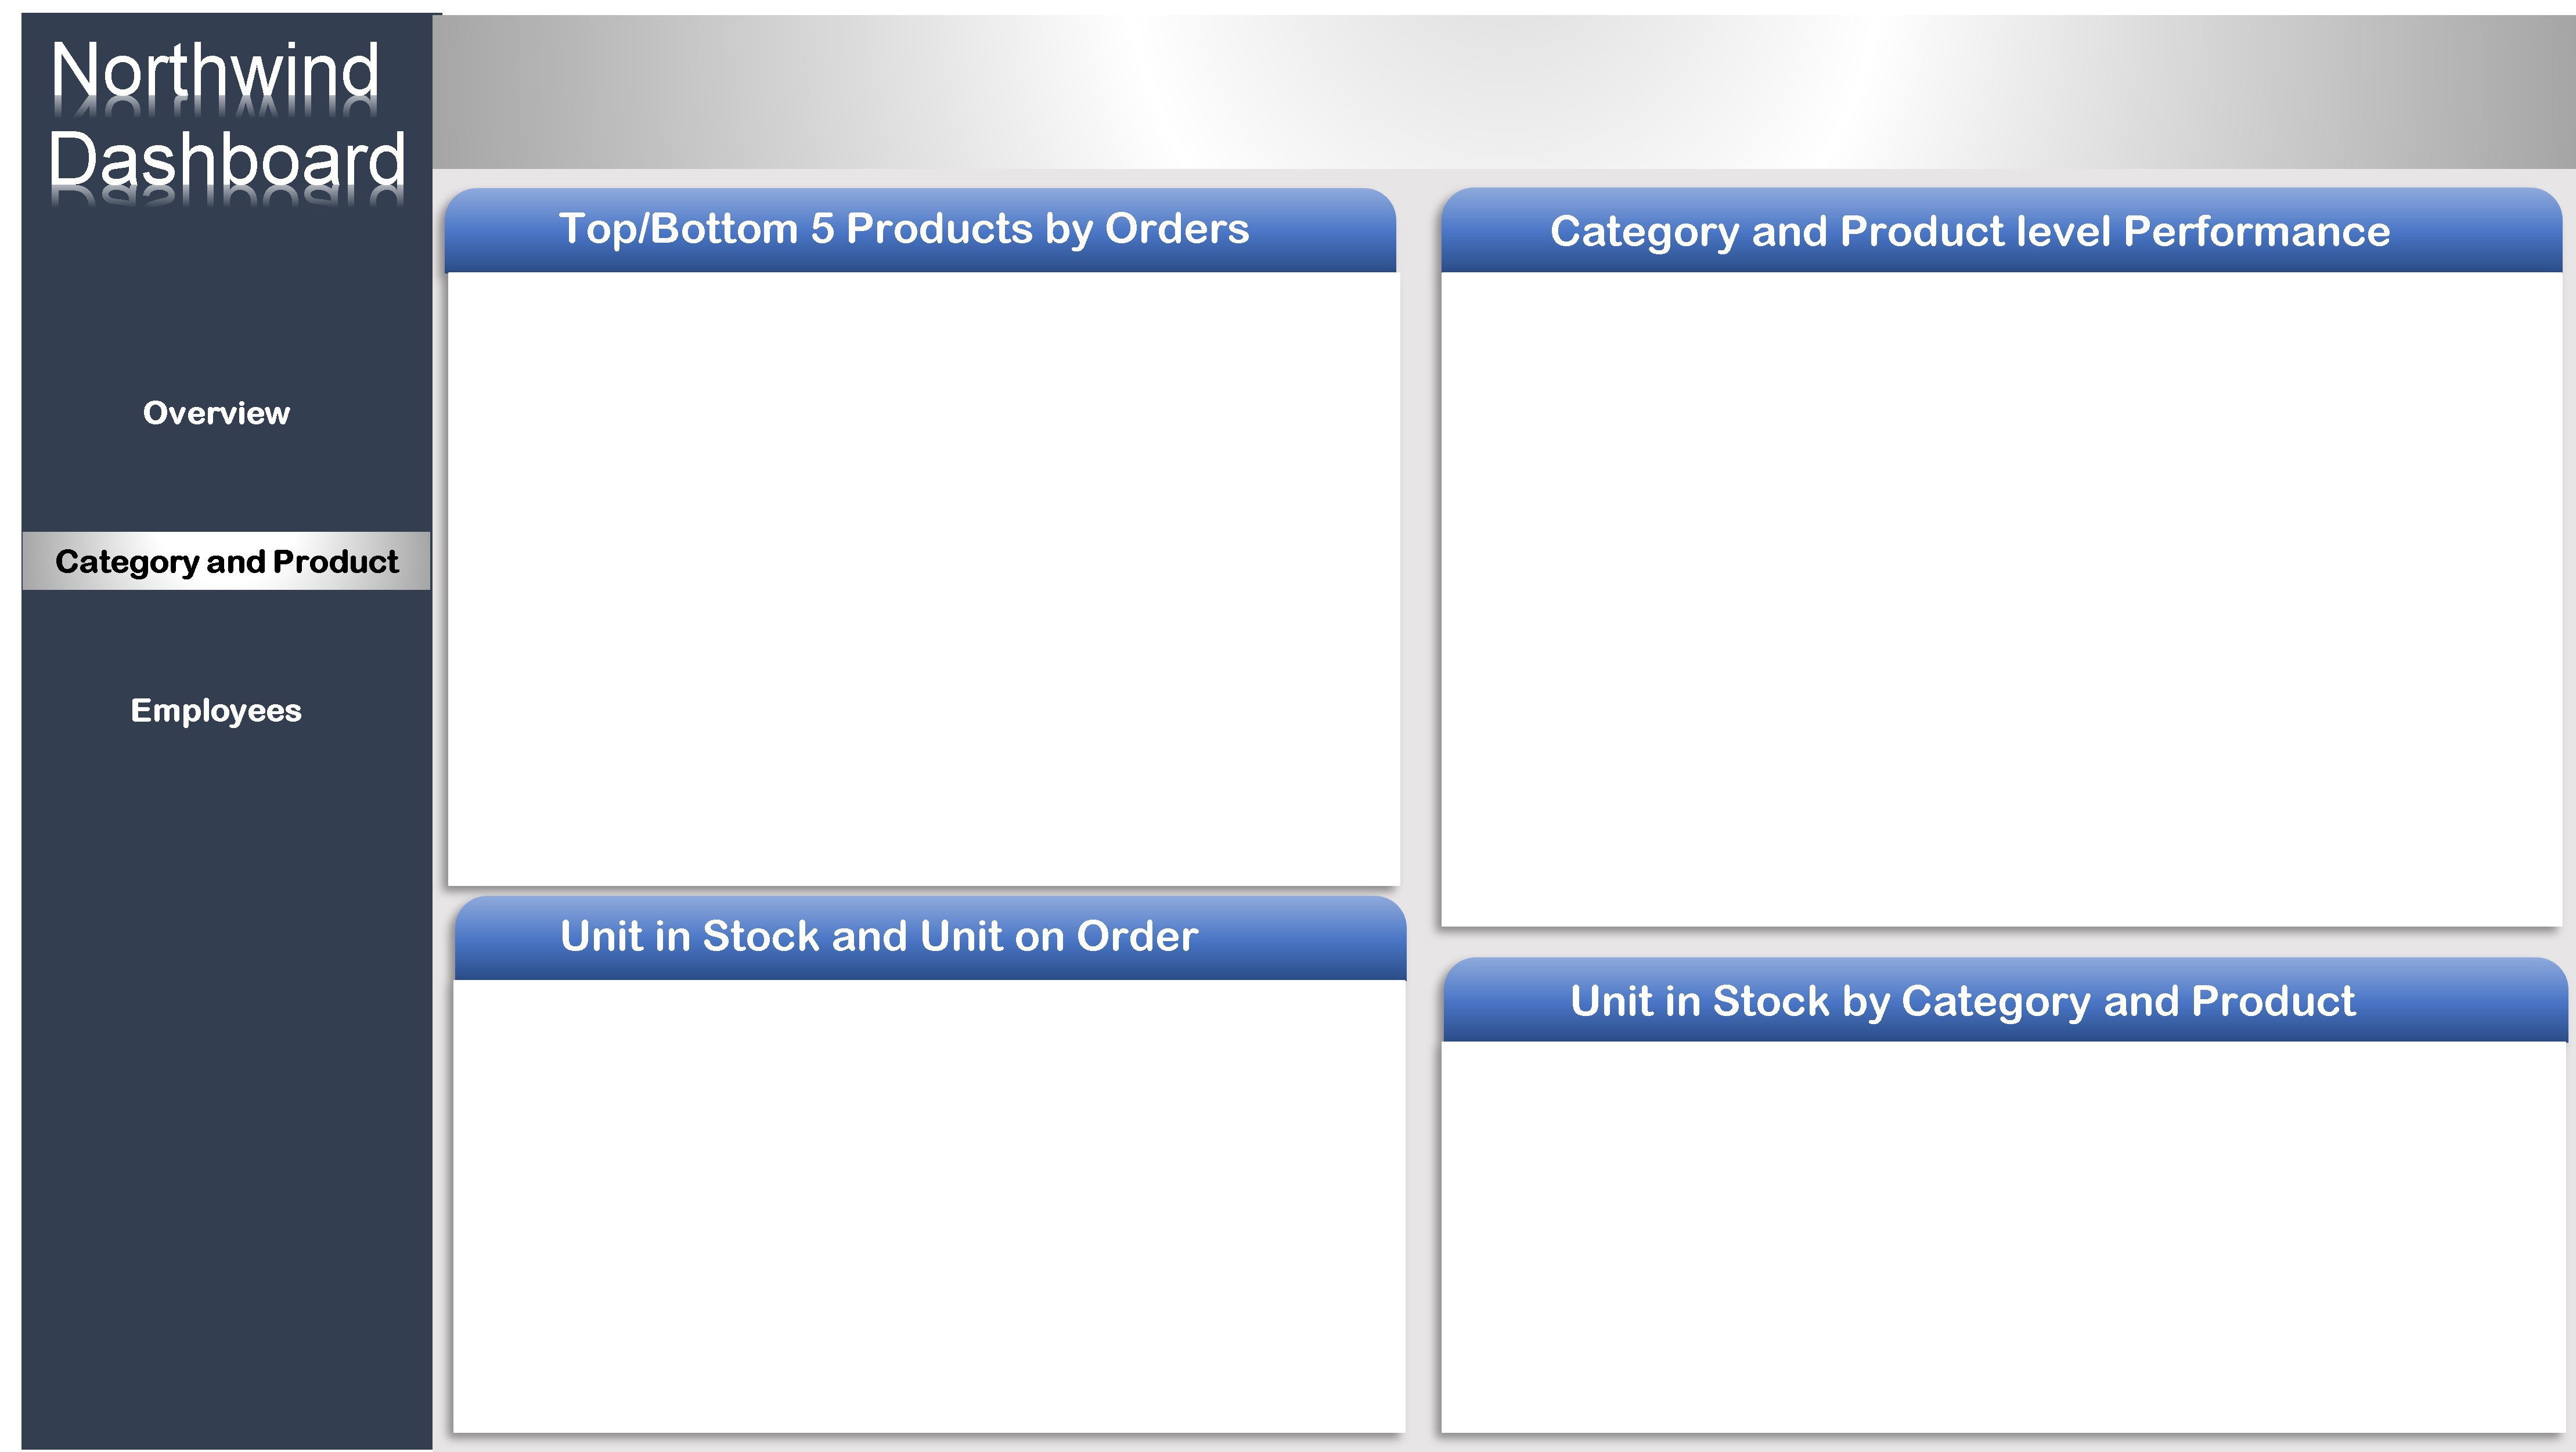

The page's visual inventory and layout, read from the dashboard file:
{"tool":"powerbi","page":{"name":"Categories & Product","canvas":[1280,720],"ordinal":1},"visuals":[{"type":"slicer","fields":{"Values":["Product.CategoryName","Product.ProductName"]},"box":[218.3,16.7,245,73.3],"z":0},{"type":"slicer","fields":{"Values":["Order_Details.Country","Order_Details.City"]},"box":[481.7,16.7,245,73.3],"z":1000},{"type":"slicer","fields":{"Values":["Order_Details.Title","Order_Details.FirstName"]},"box":[770,16.7,243.3,73.3],"z":2000},{"type":"slicer","fields":{"Values":["Order_Details.OrderDate"]},"box":[1038.3,16.7,228.3,73.3],"z":3000},{"type":"clusteredBarChart","title":"Top 5 Products by order","fields":{"Category":["Product.Product Name"],"Y":["Order_Details.Orders"]},"box":[221.7,136.7,481.7,160],"z":4000},{"type":"clusteredBarChart","title":"Bottom 5 Products by order","fields":{"Category":["Product.Product Name"],"Y":["Order_Details.Orders"]},"box":[221.7,283.3,481.7,173.3],"z":5000},{"type":"pivotTable","fields":{"Rows":["Product.Category Name","Product.Product Name"],"Values":["Order_Details.Orders","Order_Details.Quantity","Order_Details.Gross Revenue","Order_Details.Discount ($)","Order_Details.Net Revenue"]},"box":[713.3,136.7,553.3,320],"z":6000},{"type":"pivotTable","fields":{"Rows":["Product.Category Name","Product.Product Name"],"Values":["Product.UnitsInStock","Product.UnitsOnOrder"]},"box":[250,480,425,240],"z":7000},{"type":"clusteredColumnChart","fields":{"Category":["Product.Category Name","Product.Product Name"],"Y":["Product.UnitsInStock"]},"box":[726.7,518.3,540,201.7],"z":7001},{"type":"actionButton","box":[13.3,185,205,45],"z":7002},{"type":"actionButton","box":[13.3,336.7,205,45],"z":7003}]}

Visuals, with their boxes in screenshot pixels (x1, y1, x2, y2), scaled from the page's 1280x720 canvas onto the 2576x1452 screenshot:
slicer - Product.CategoryName x Product.ProductName: x1=439, y1=34, x2=932, y2=182
slicer - Order_Details.Country x Order_Details.City: x1=970, y1=34, x2=1462, y2=182
slicer - Order_Details.Title x Order_Details.FirstName: x1=1550, y1=34, x2=2040, y2=182
slicer - Order_Details.OrderDate: x1=2089, y1=34, x2=2549, y2=182
"Top 5 Products by order" clusteredBarChart: x1=446, y1=276, x2=1415, y2=599
"Bottom 5 Products by order" clusteredBarChart: x1=446, y1=571, x2=1415, y2=921
pivotTable - Product.Category Name x Product.Product Name: x1=1436, y1=276, x2=2549, y2=921
pivotTable - Product.Category Name x Product.Product Name: x1=503, y1=968, x2=1359, y2=1451
clusteredColumnChart - Product.Category Name x Product.Product Name: x1=1462, y1=1045, x2=2549, y2=1451
actionButton: x1=27, y1=373, x2=439, y2=464
actionButton: x1=27, y1=679, x2=439, y2=770
